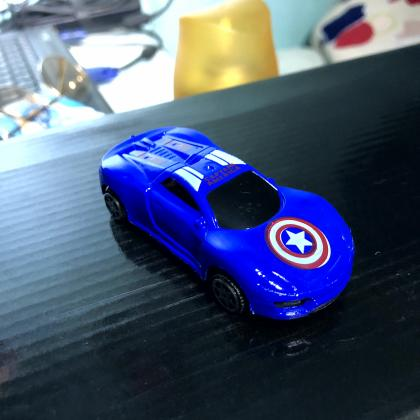Car: (99, 127, 355, 323)
